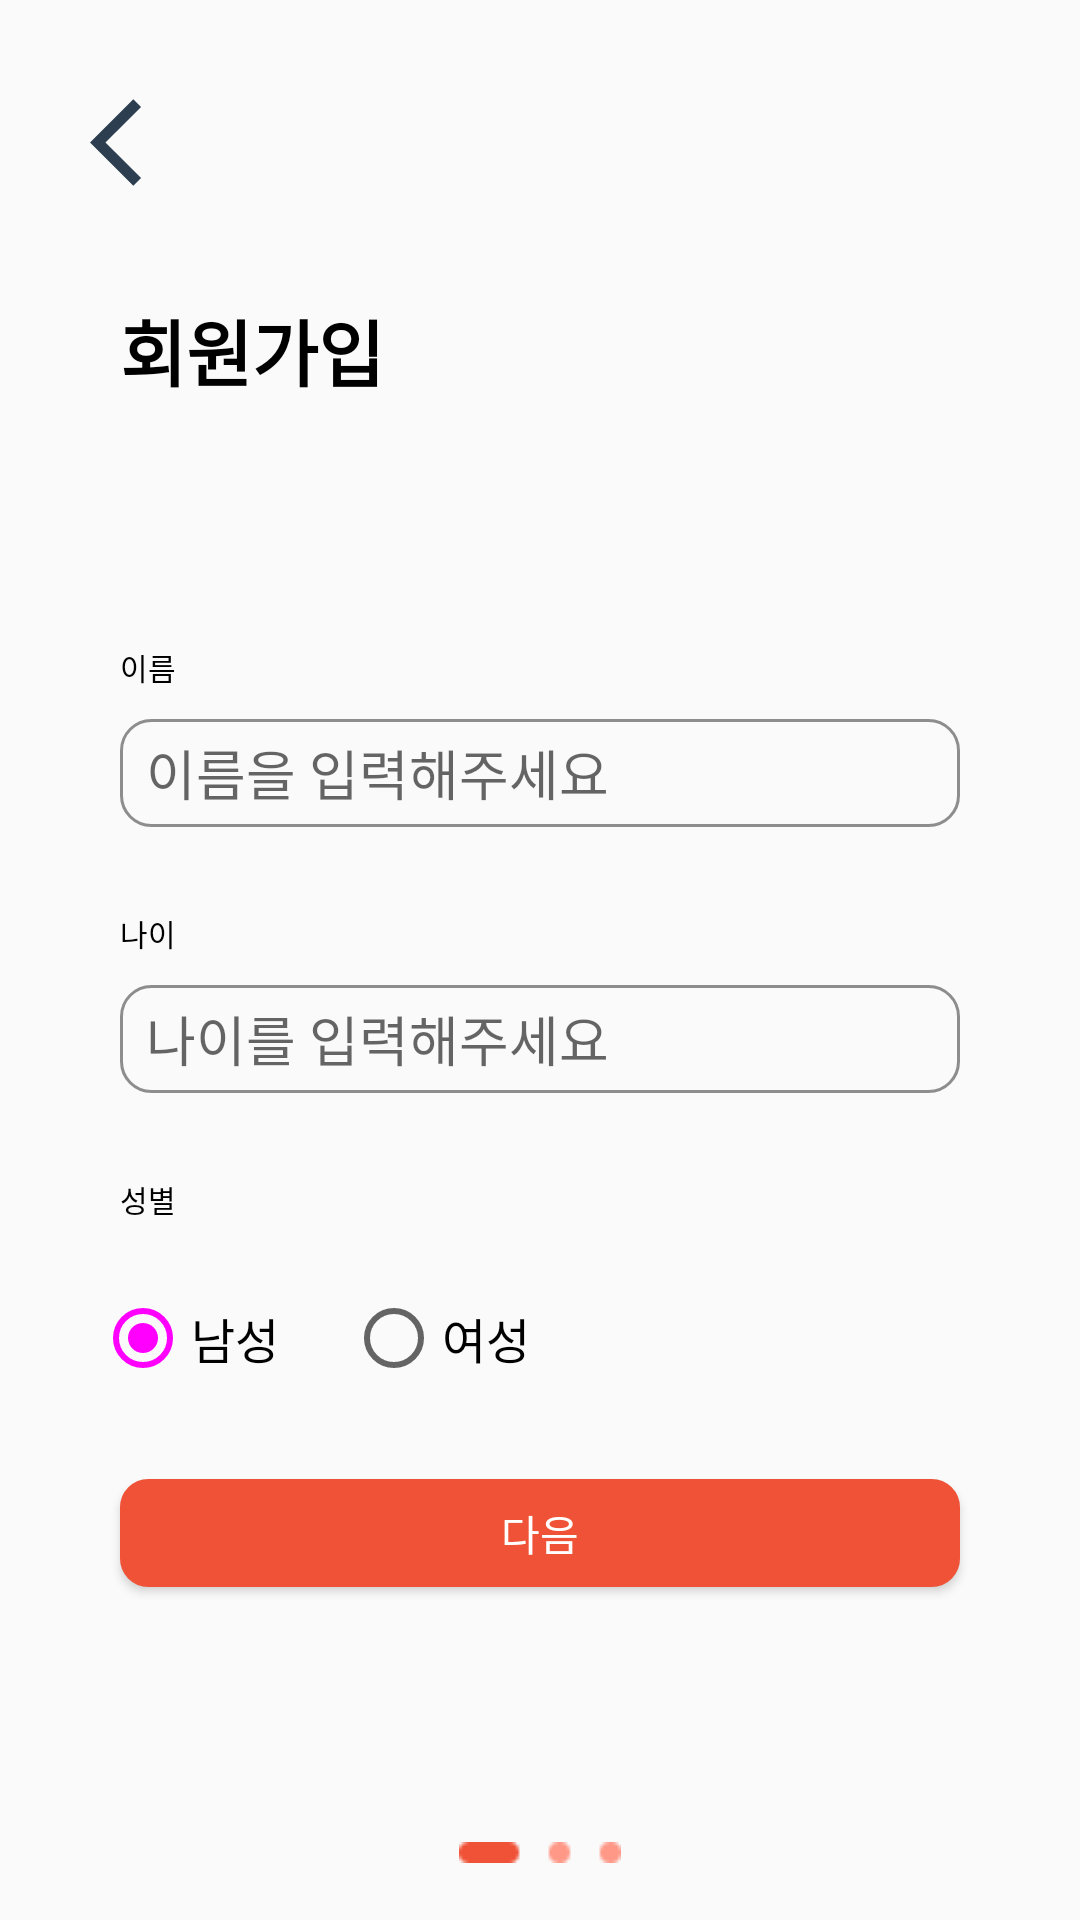

Icon click points for this 1080px x 1920px phone screenshot, format (x=x, y=y):
arrow back: (x=115, y=142)
